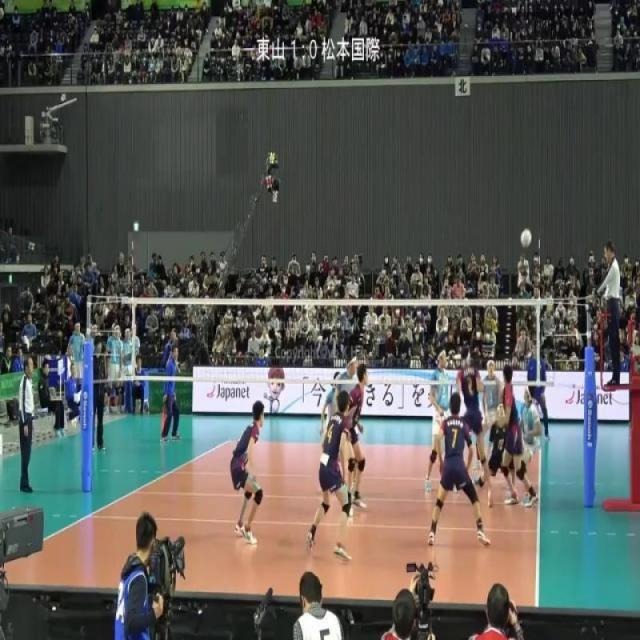volleyball: (520, 227, 532, 249)
